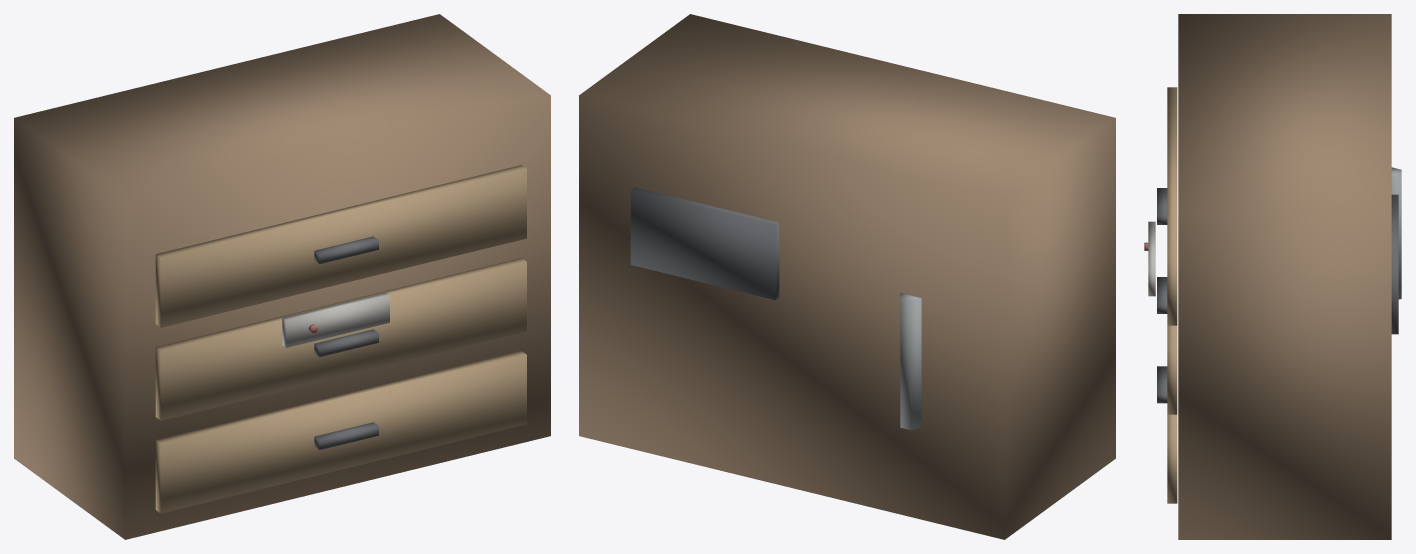
The model's file is motel_dresser__service.glb.
The picture shows the model from 3 angles, left to right: view 1: azimuth 30°, elevation 25°; view 2: azimuth 150°, elevation 25°; view 3: azimuth 270°, elevation 25°; orthographic projection. The views are drawn at different scales.
Visible parts, largest first — view 1: world; view 2: world; view 3: world.
Boxes of the visible parts, x1,y1,x2,y2 form: world: (14,14,550,539); world: (579,14,1115,539); world: (1144,14,1401,539).
Bounding box in the file's own units: 1.15 × 0.88 × 0.6284.
